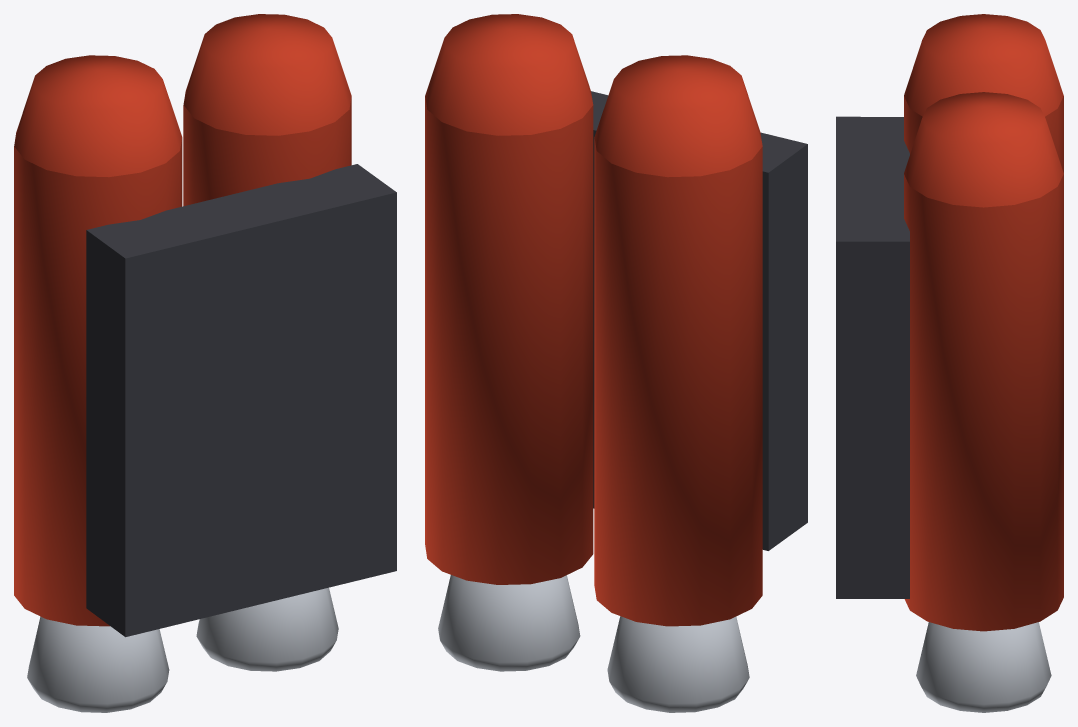
The model's file is jetpack.glb.
The picture shows the model from 3 angles, left to right: view 1: azimuth 30°, elevation 25°; view 2: azimuth 150°, elevation 25°; view 3: azimuth 270°, elevation 25°; orthographic projection. The views are drawn at different scales.
Parts seen in each view (by area): view 1: jetpack; view 2: jetpack; view 3: jetpack.
Boxes of the visible parts, <box> form: jetpack: <box>14,14,396,712</box>; jetpack: <box>425,14,807,712</box>; jetpack: <box>836,14,1063,712</box>.
Size of the model in its own units: 0.28 by 0.52 by 0.1851.
